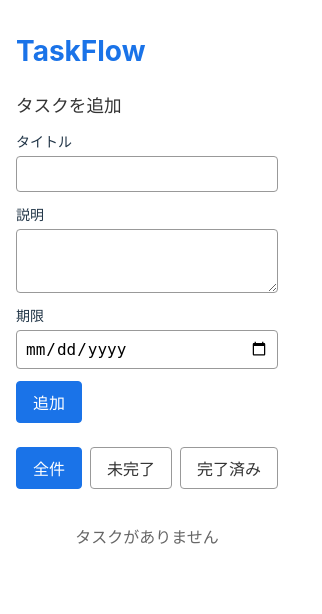
Test: App タスク追加 › フォーム送信でタスクが一覧に追加され localStorage に保存される
Expected: the text "タスクがありません" is shown, [75,527,219,547]
Type "新しいタスク" into the field labelled "タイトル" at [147, 174], box [16,156,278,192]
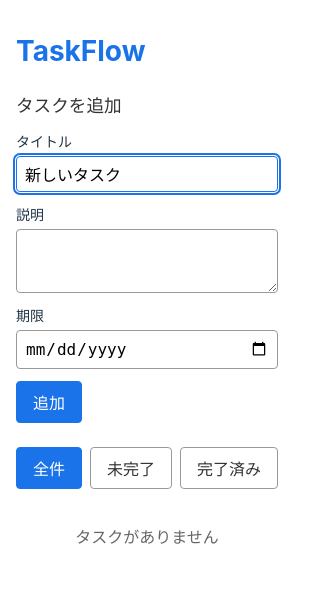
Type "詳細メモ" into the text box labelled "説明" at [147, 261], box [16,229,278,293]
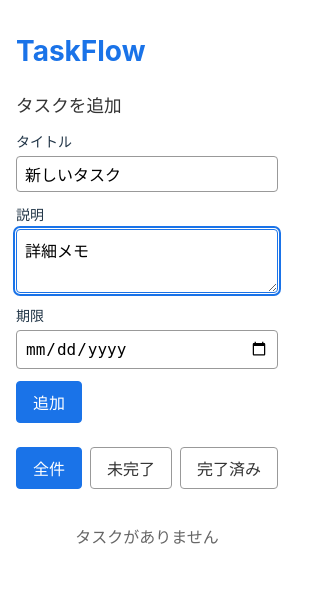
Click the button "追加" at [49, 402], box [16,381,82,423]
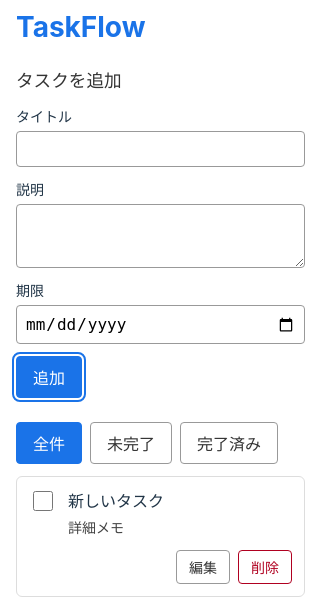
Expected: the text "新しいタスク" is shown, [68,492,164,512]
Expected: the field labelled "タイトル" is empty, [16,132,305,168]
